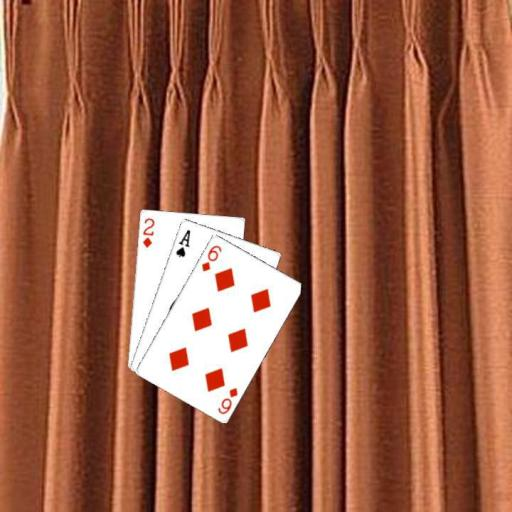2D: (139, 215, 156, 249)
6D: (199, 242, 224, 273), (215, 384, 239, 415)
AS: (173, 226, 192, 258)
